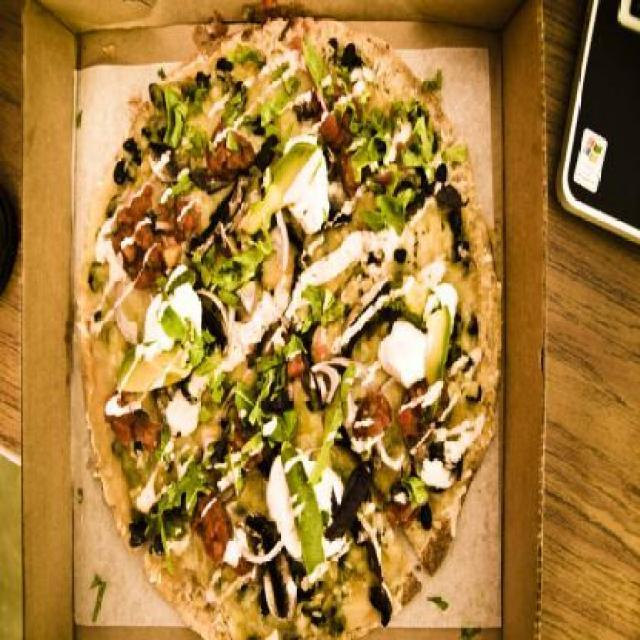Pizza: (41, 36, 514, 636)
